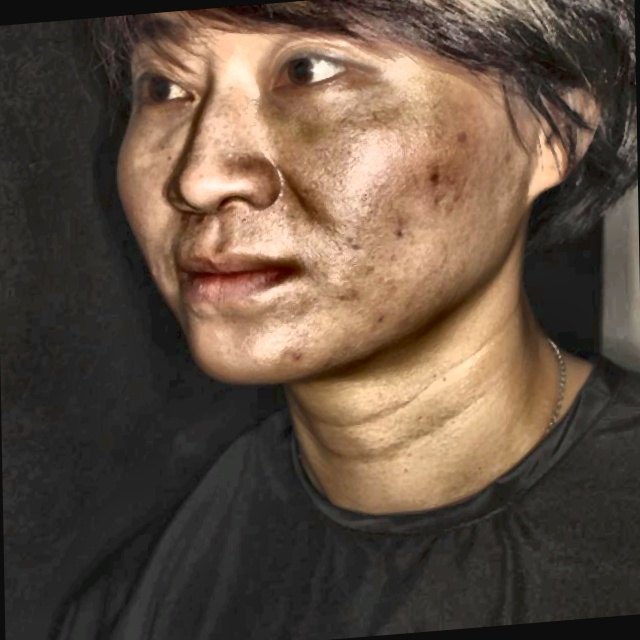comedone: (418, 165, 448, 191), (281, 342, 305, 366)
